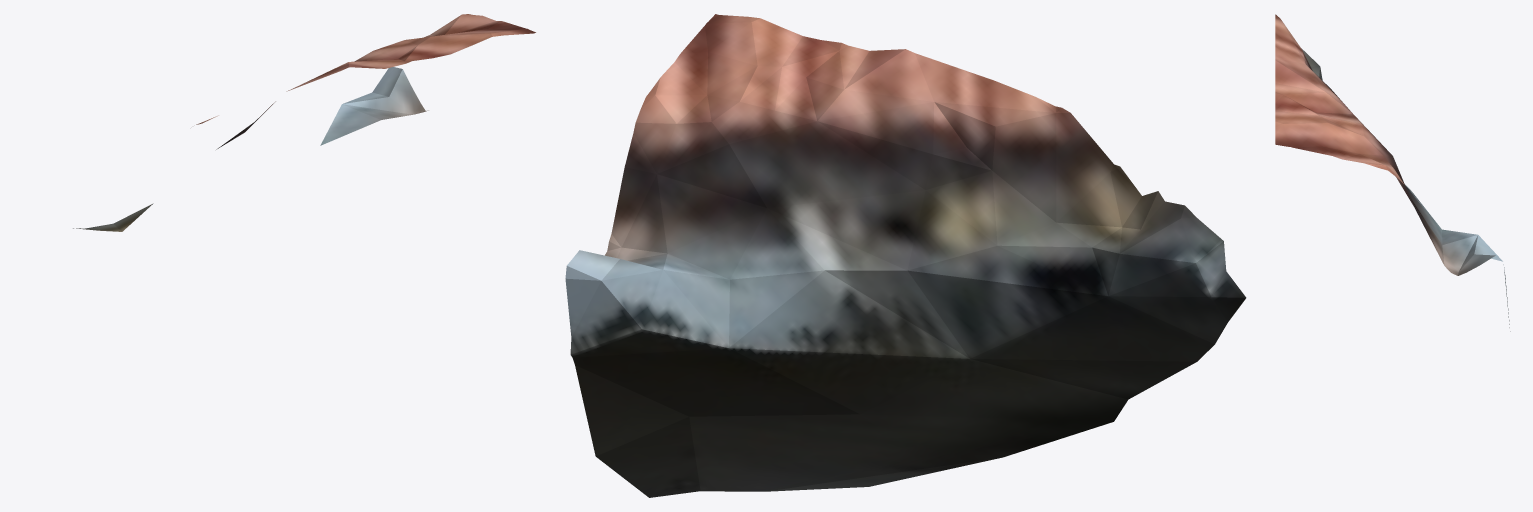
The picture shows the model from 3 angles, left to right: view 1: azimuth 30°, elevation 25°; view 2: azimuth 150°, elevation 25°; view 3: azimuth 270°, elevation 25°; orthographic projection. The views are drawn at different scales.
Size of the model in its own units: 0.6728 by 0.541 by 0.3294.
1 material, 1 textured.
